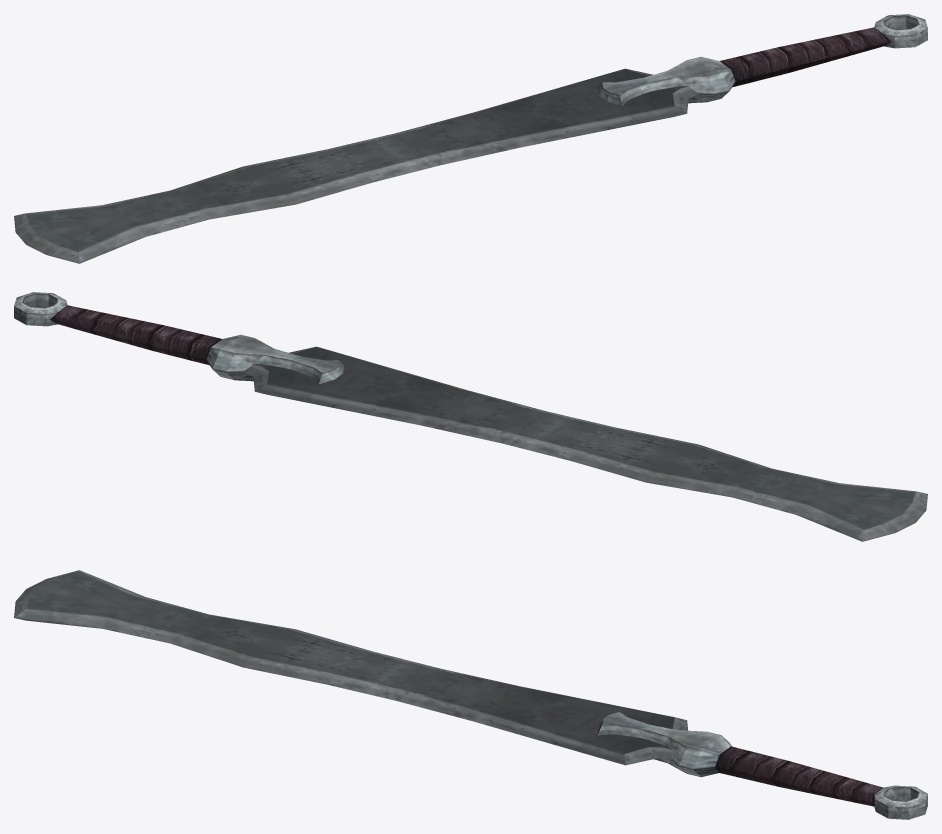
File: KM_ITMW_RYCHU_1H_SWORD_02.glb
3 views of the same model, one above another, from view 1: azimuth 30°, elevation 25°; view 2: azimuth 150°, elevation 25°; view 3: azimuth 330°, elevation 25° (orthographic).
Visible parts, largest first — view 1: KM_ITMW_RYCHU_1H_SWORD_02; view 2: KM_ITMW_RYCHU_1H_SWORD_02; view 3: KM_ITMW_RYCHU_1H_SWORD_02.
Boxes of the visible parts, x1=… form: KM_ITMW_RYCHU_1H_SWORD_02: x1=14, y1=14, x2=927, y2=263; KM_ITMW_RYCHU_1H_SWORD_02: x1=14, y1=292, x2=927, y2=541; KM_ITMW_RYCHU_1H_SWORD_02: x1=14, y1=570, x2=927, y2=819.
Bounding box in the file's own units: 1.03 × 0.0296 × 0.1301.
2 materials, 2 textured.
